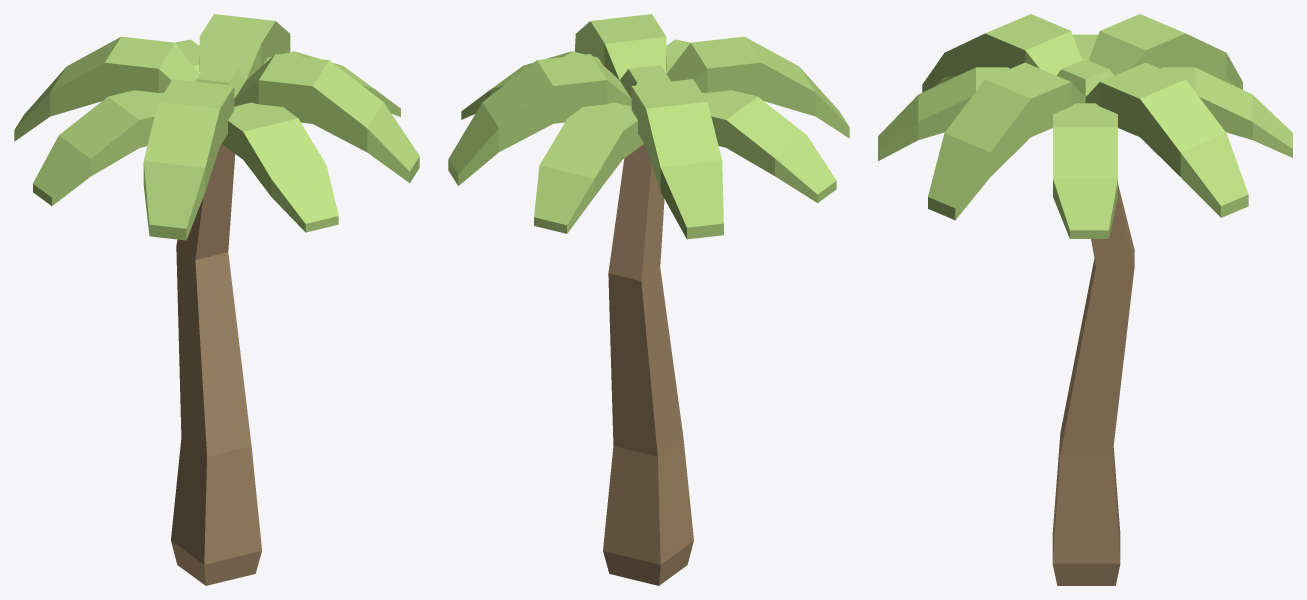
File: palm.glb
3 views of the same model, side by side, from view 1: azimuth 30°, elevation 25°; view 2: azimuth 150°, elevation 25°; view 3: azimuth 270°, elevation 25° (orthographic).
Visible parts, largest first — view 1: ExportPalm; view 2: ExportPalm; view 3: ExportPalm.
Part boxes in pixels (left/top/right/bottom): ExportPalm: left=14, top=14, right=419, bottom=585; ExportPalm: left=448, top=14, right=849, bottom=585; ExportPalm: left=878, top=14, right=1292, bottom=585.
Size of the model in its own units: 4.36 by 6 by 4.36.
